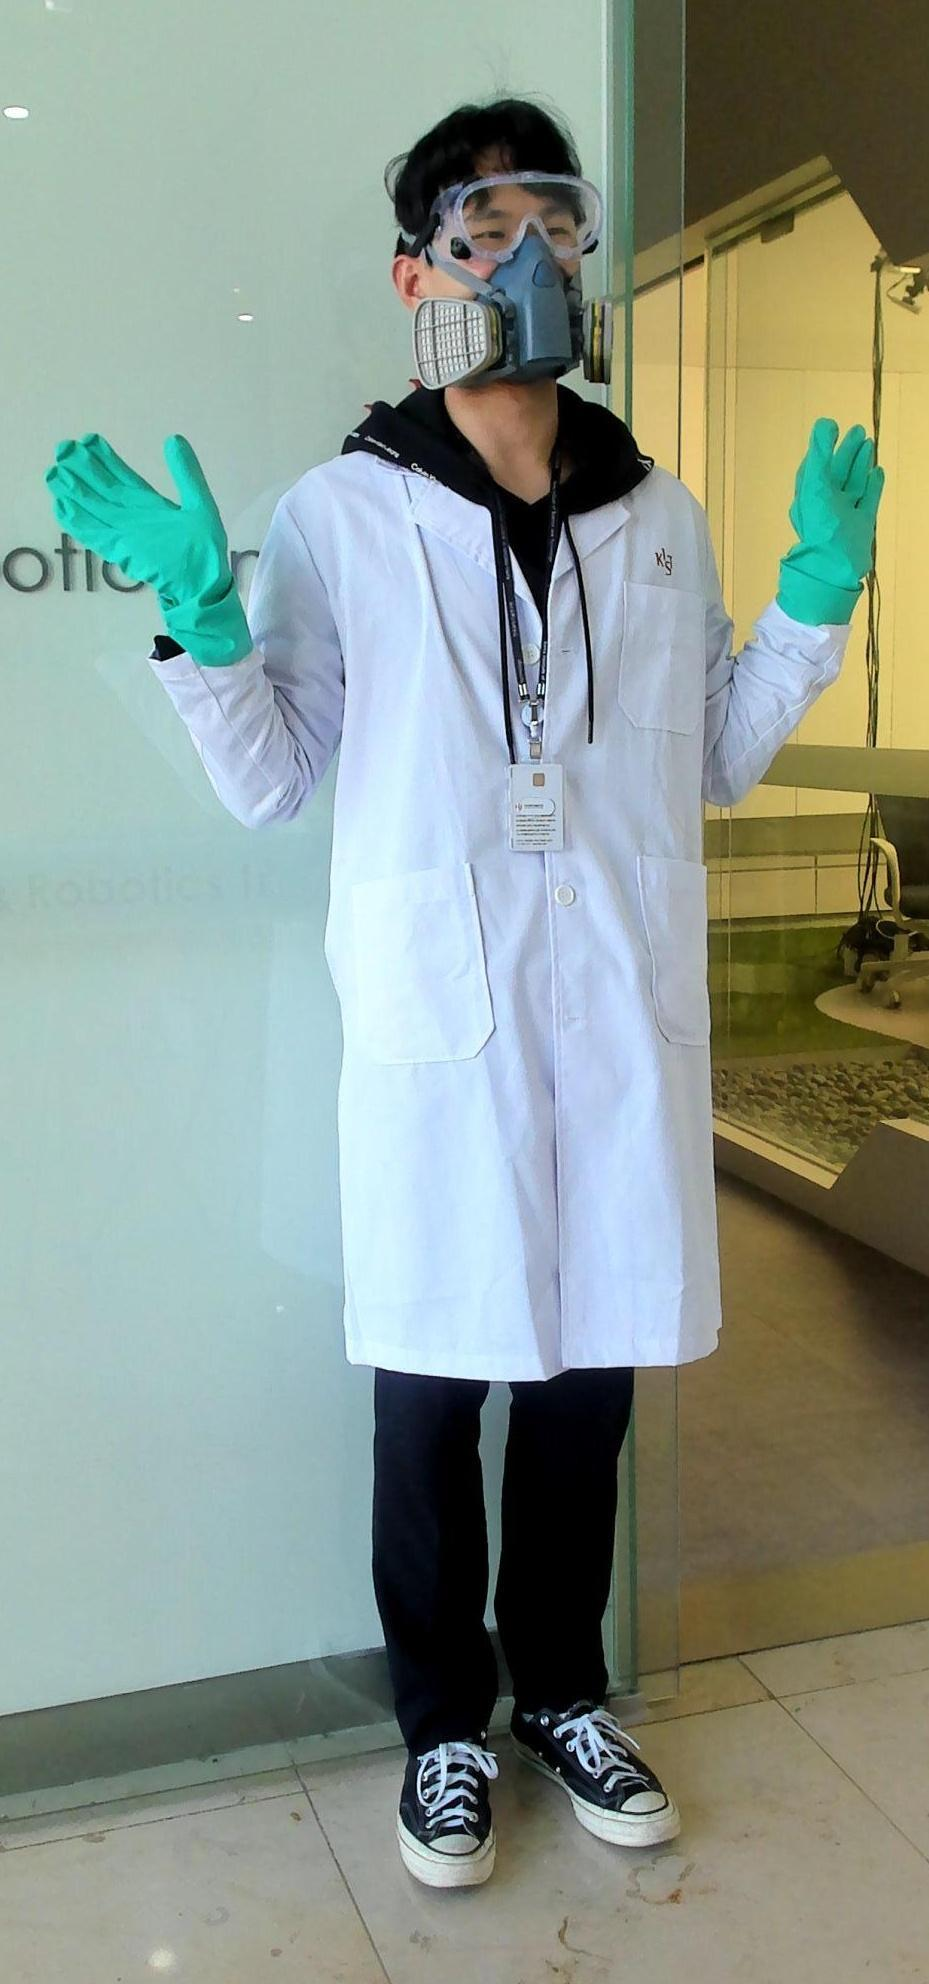lab_coat: (302, 501, 726, 1367)
